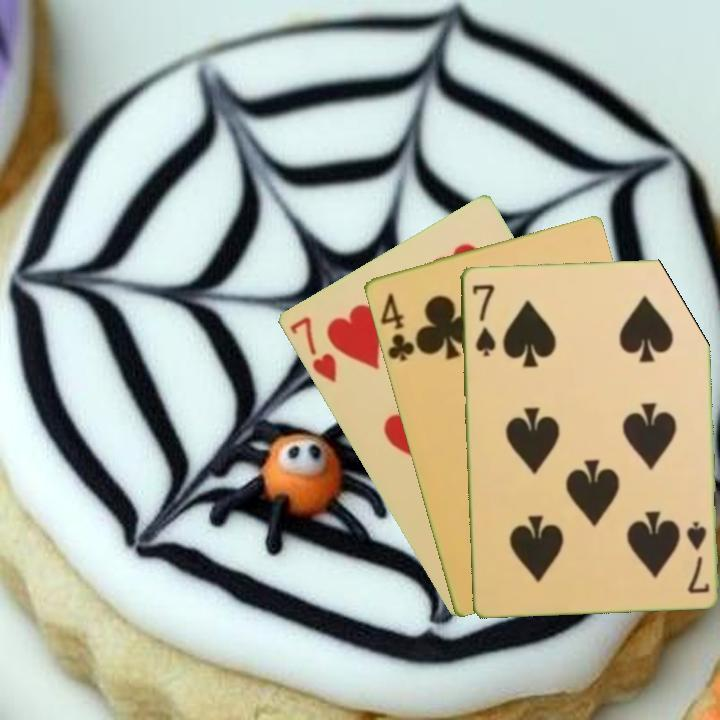4c: (376, 289, 417, 364)
7h: (286, 312, 339, 386)
7s: (468, 280, 498, 359), (682, 517, 712, 596)
